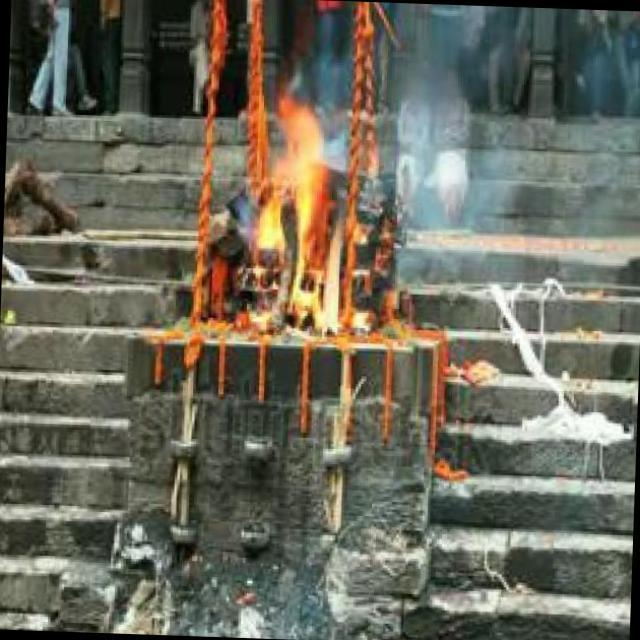Fire: (252, 90, 350, 338)
